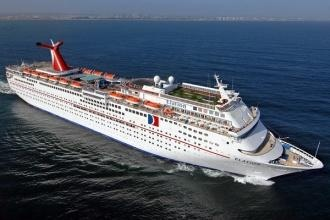youlun: (5, 33, 324, 184)
